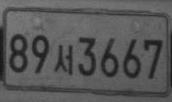3: (77, 36, 97, 76)
6: (100, 37, 120, 77), (122, 37, 141, 78)
7: (143, 38, 163, 79)
8: (9, 33, 29, 72)
9: (30, 34, 50, 74)
서: (53, 44, 73, 76)
